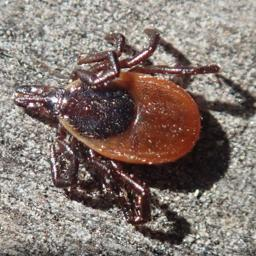Ixodes scapularis: (15, 32, 220, 215)
